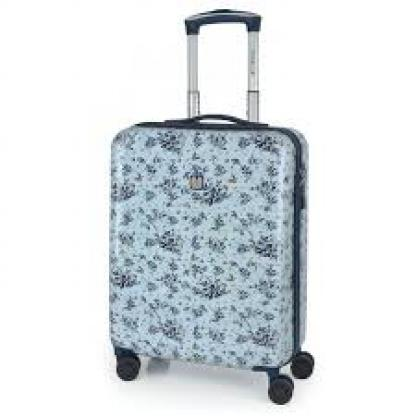maleta: (78, 104, 340, 411)
